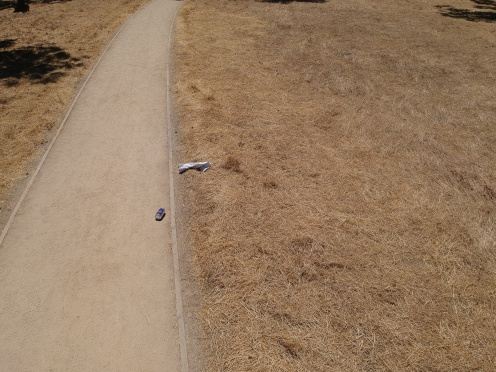can: (150, 202, 170, 224)
